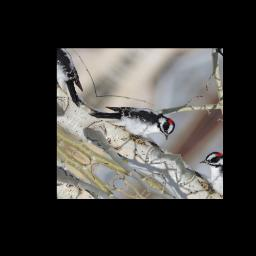Woodpecker: (87, 82, 180, 159)
